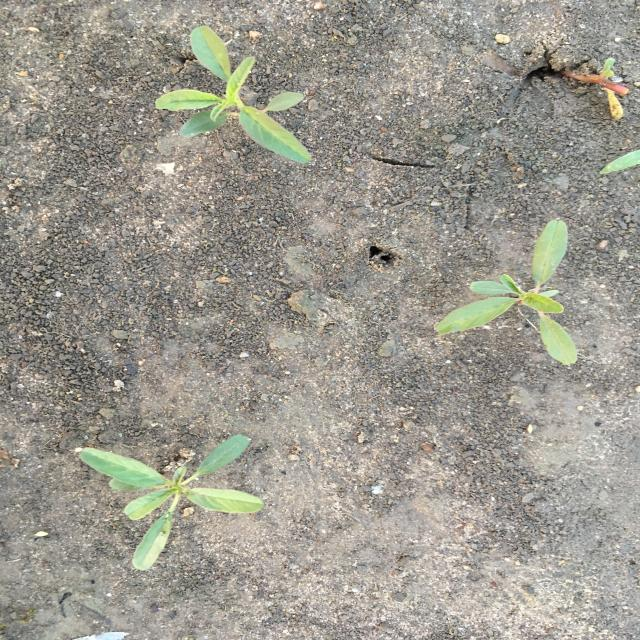Waterhemp: (75, 432, 267, 572), (154, 24, 316, 167), (432, 219, 582, 366)
